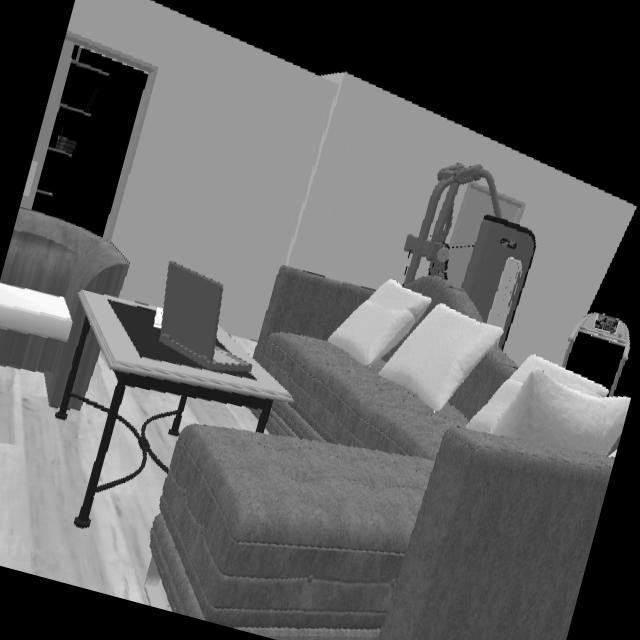book: (152, 307, 162, 327)
laptop: (157, 261, 249, 373)
pillow: (469, 355, 631, 457), (378, 304, 503, 413), (326, 279, 431, 368), (0, 283, 72, 343)
sofa: (143, 266, 615, 640), (0, 208, 131, 407), (405, 274, 482, 319), (70, 328, 100, 398), (68, 397, 82, 410)
table: (55, 291, 294, 528)
